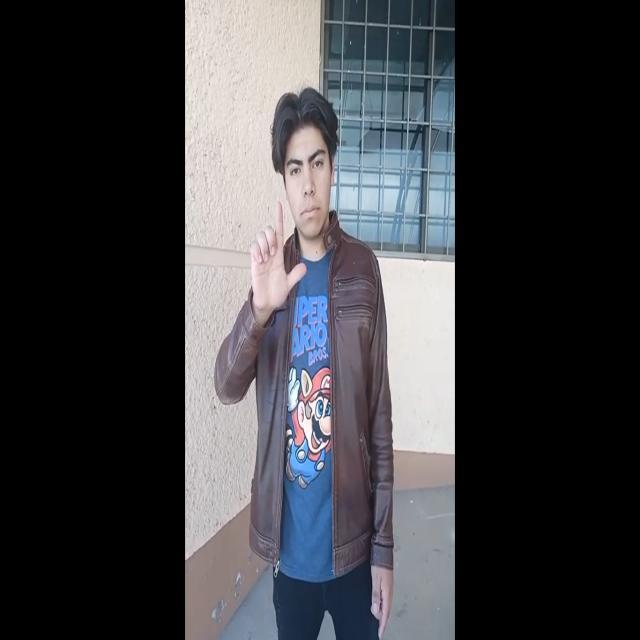L: (240, 196, 313, 324)
